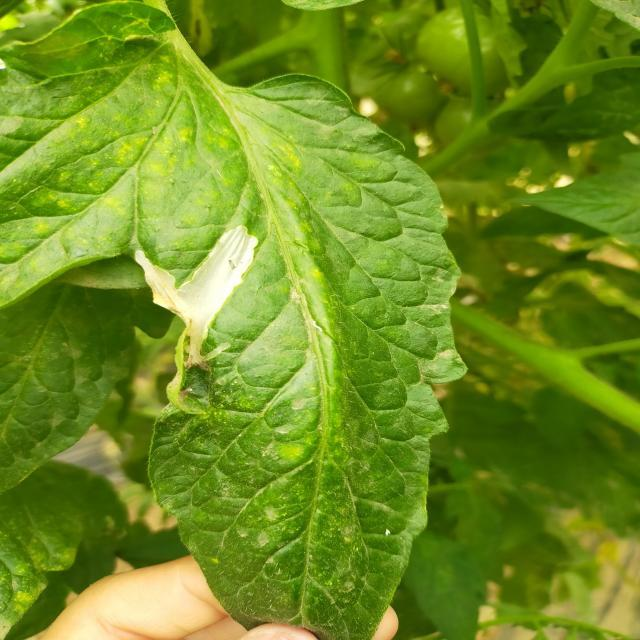Tuta absoluta: (133, 222, 284, 375)
